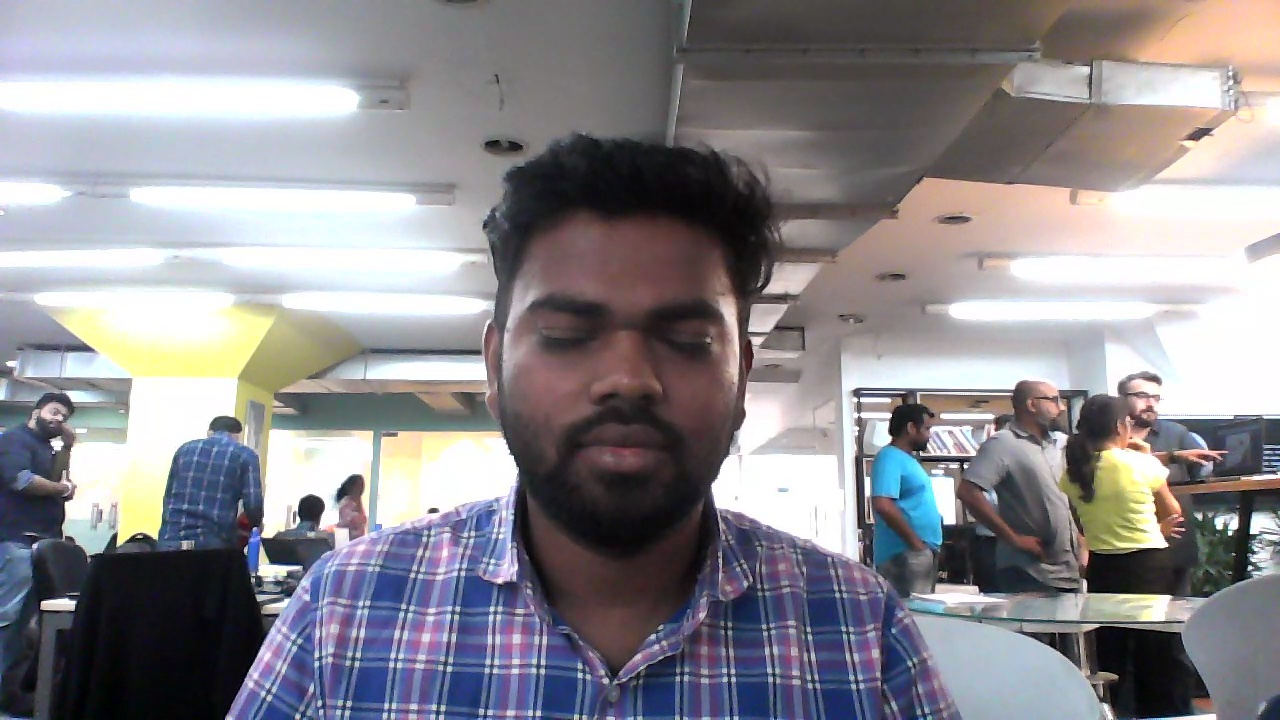closed: (480, 148, 761, 562)
